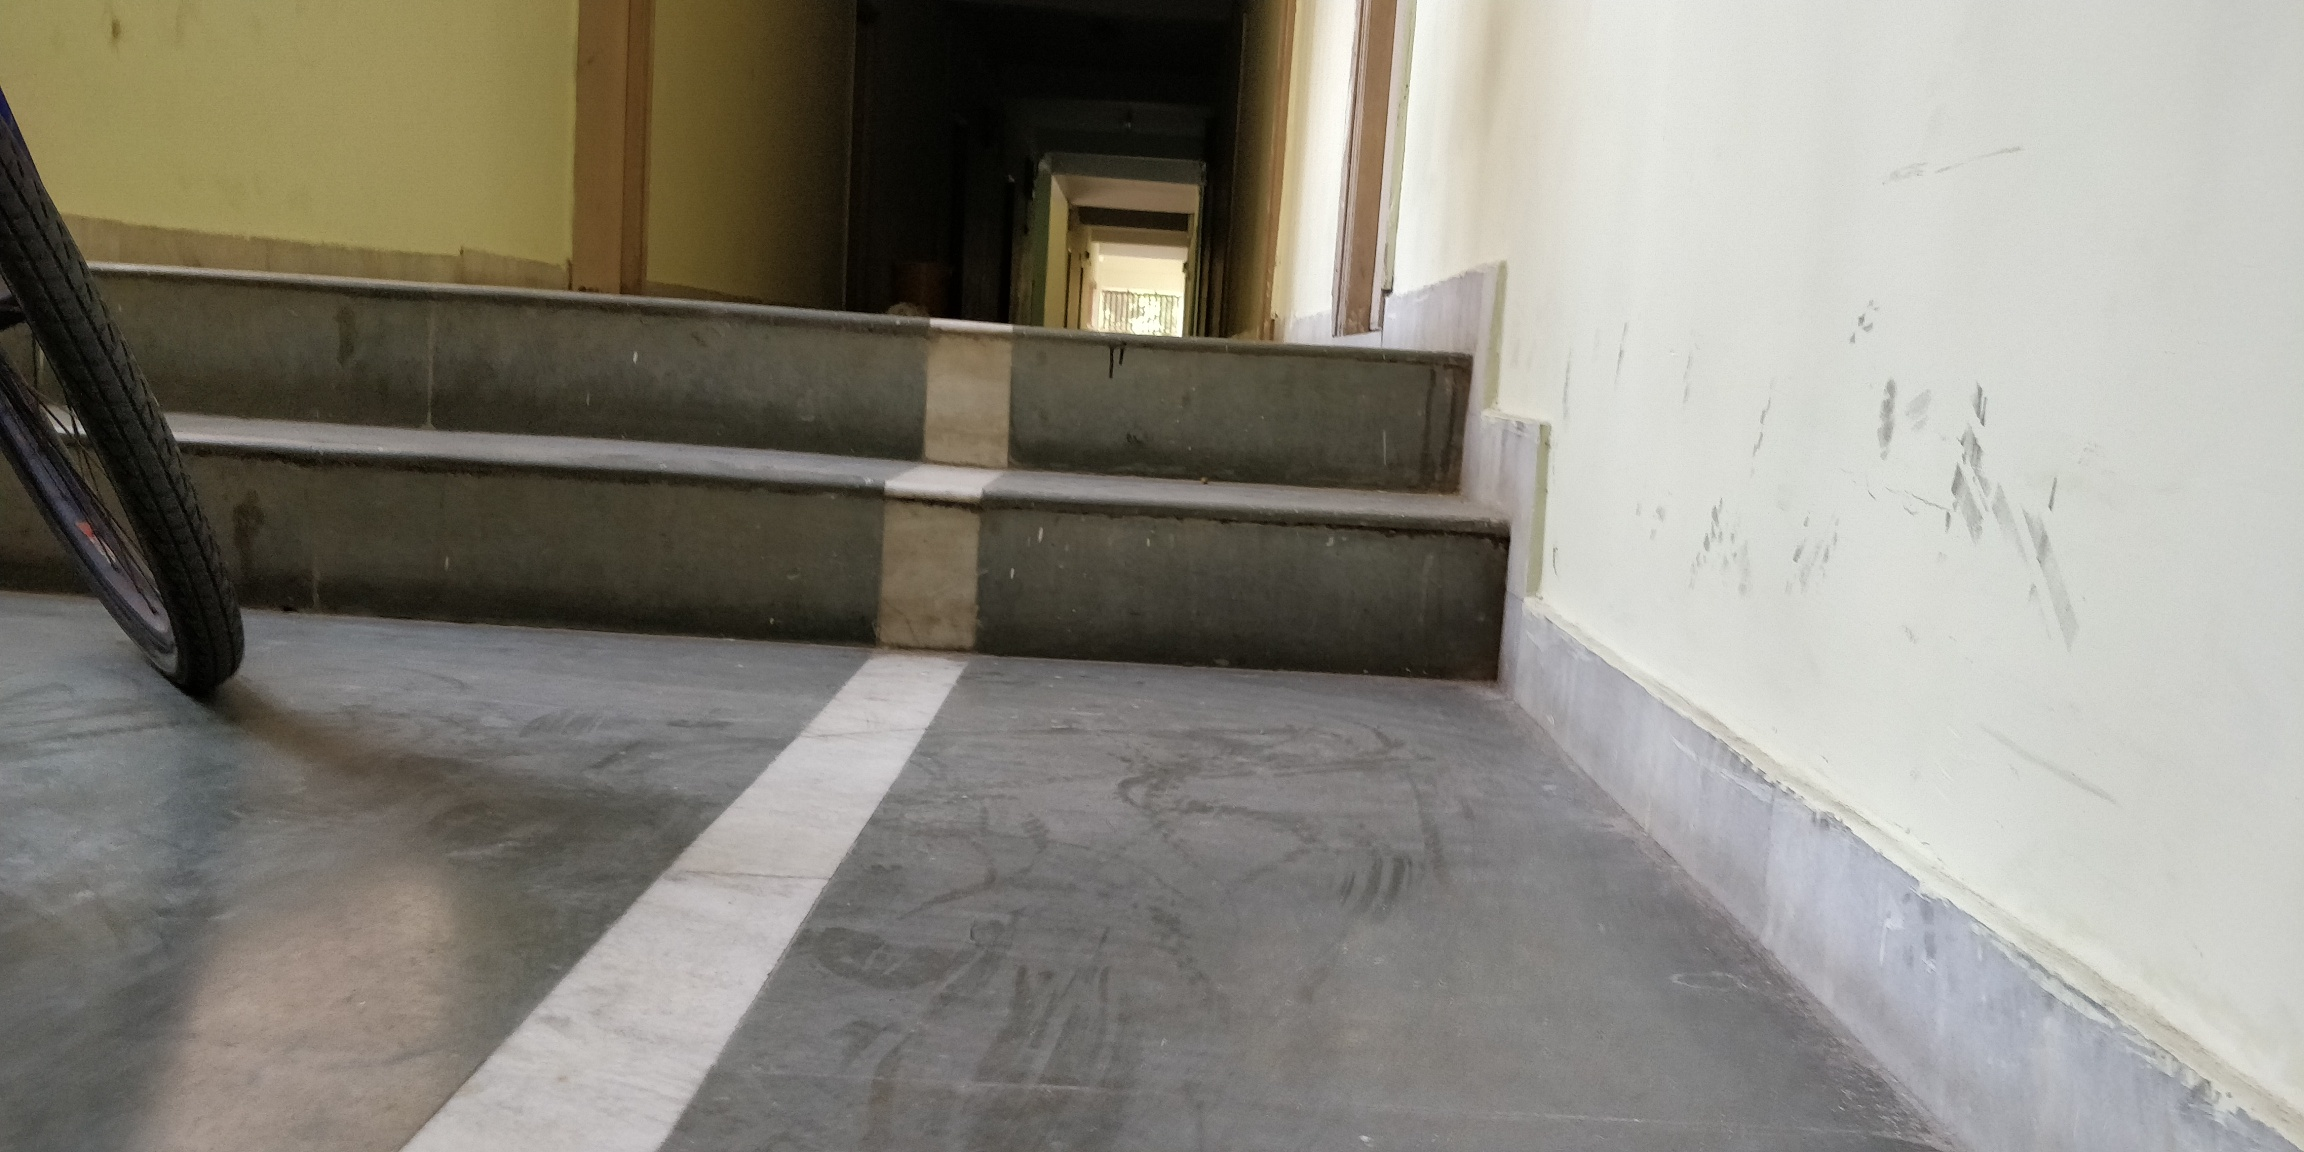stairs_up: (104, 253, 1536, 685)
